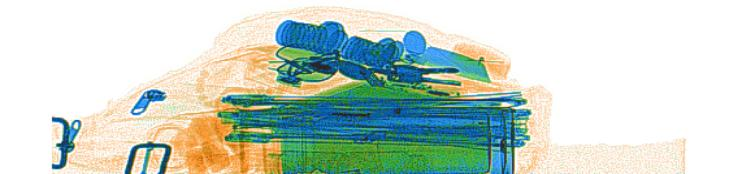knife: (404, 44, 493, 85)
